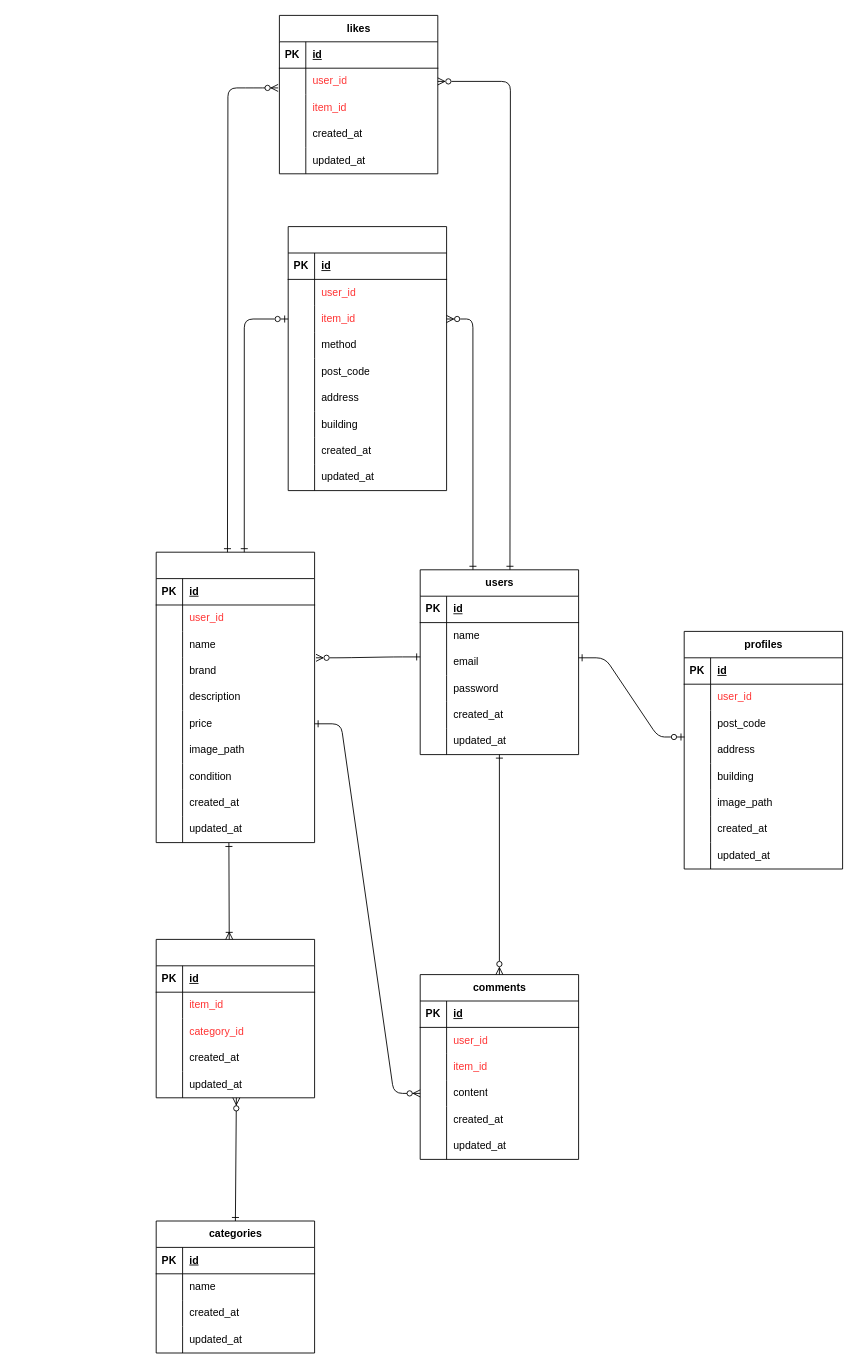
The diagram is 858 pixels wide and 1368 high, and some of its shapes have lost their labels. The box of each missing label's shape, as (x1, y1, x2, y2) in pixels:
category_item: (155, 939, 315, 1098)
items: (155, 551, 315, 843)
solds: (287, 226, 447, 491)
